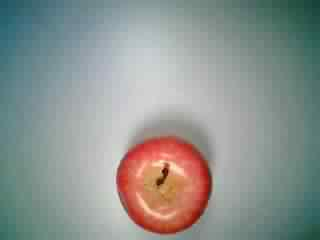apple: (109, 132, 213, 236)
